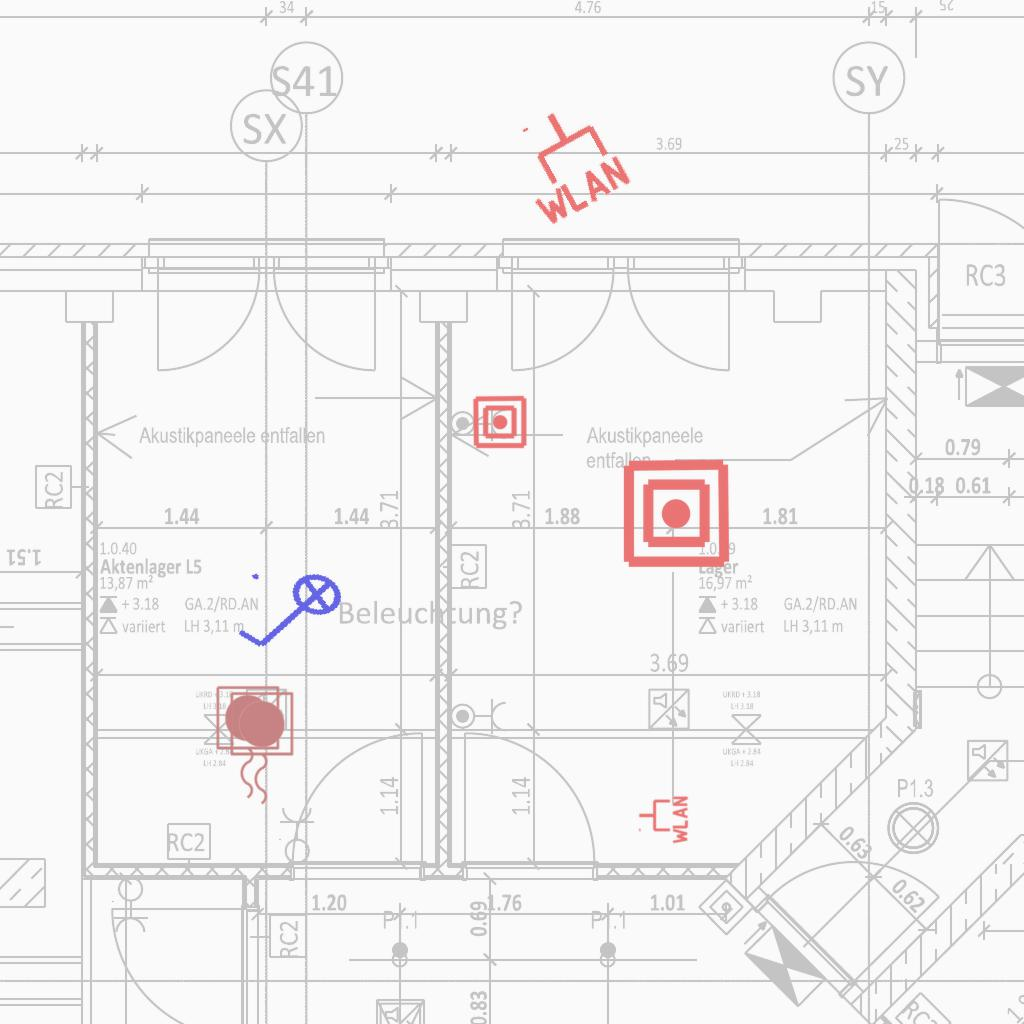Ausschalter_beleuchtet: (225, 553, 361, 677)
NAM-Nichtautomatischer_Melder: (620, 457, 733, 570), (472, 394, 528, 450)
WLAN: (494, 89, 637, 233), (637, 794, 689, 846)
Zugtaster: (211, 682, 283, 804), (225, 688, 297, 810)
